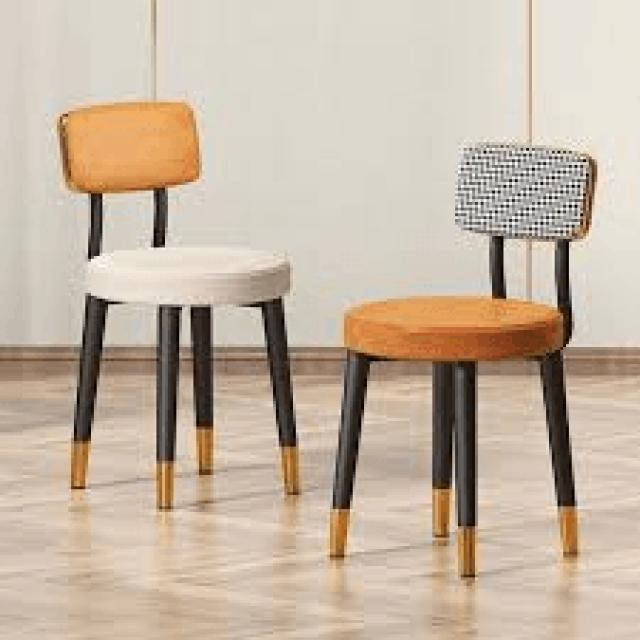chair: (325, 132, 600, 586), (53, 96, 304, 516), (351, 140, 591, 328), (82, 95, 288, 278)
